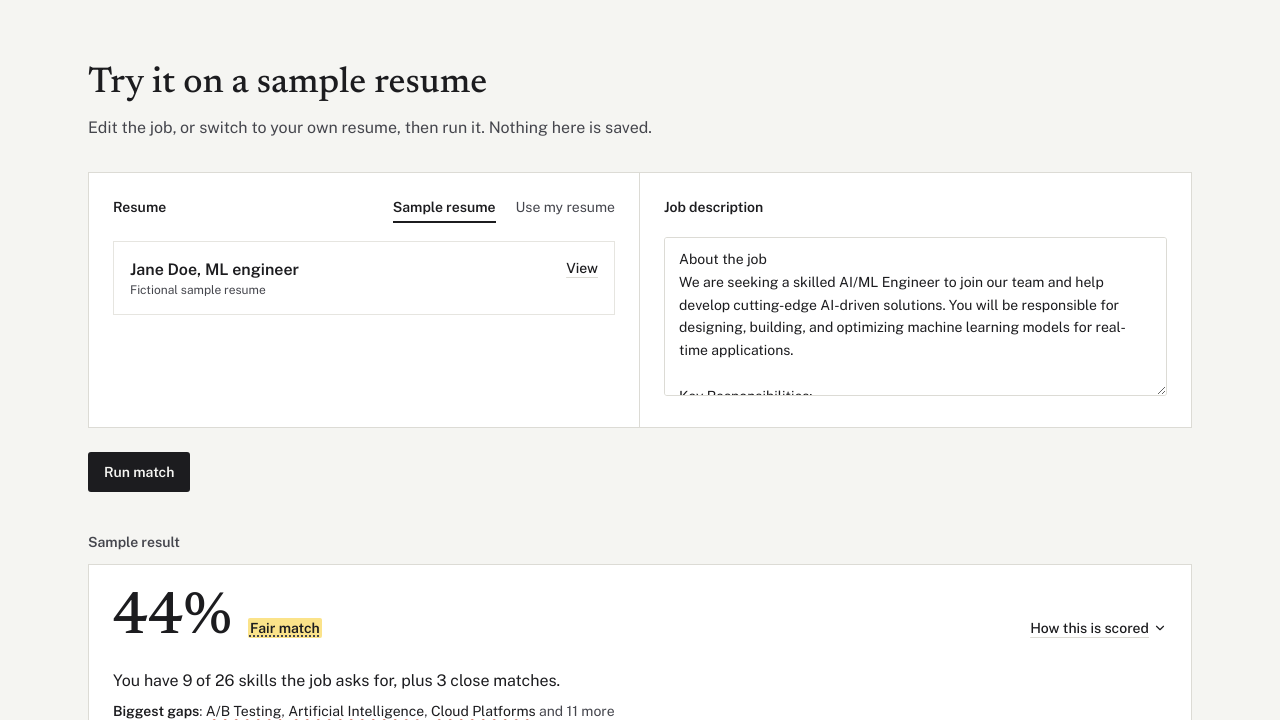
Test: editing the job description runs the match on your text
The width and height of the screenshot is (1280, 720).
Step 1. Replace the text in the text box with "Requirements: Python, SQL, Docker" → (916,316), box [664,237,1167,396]
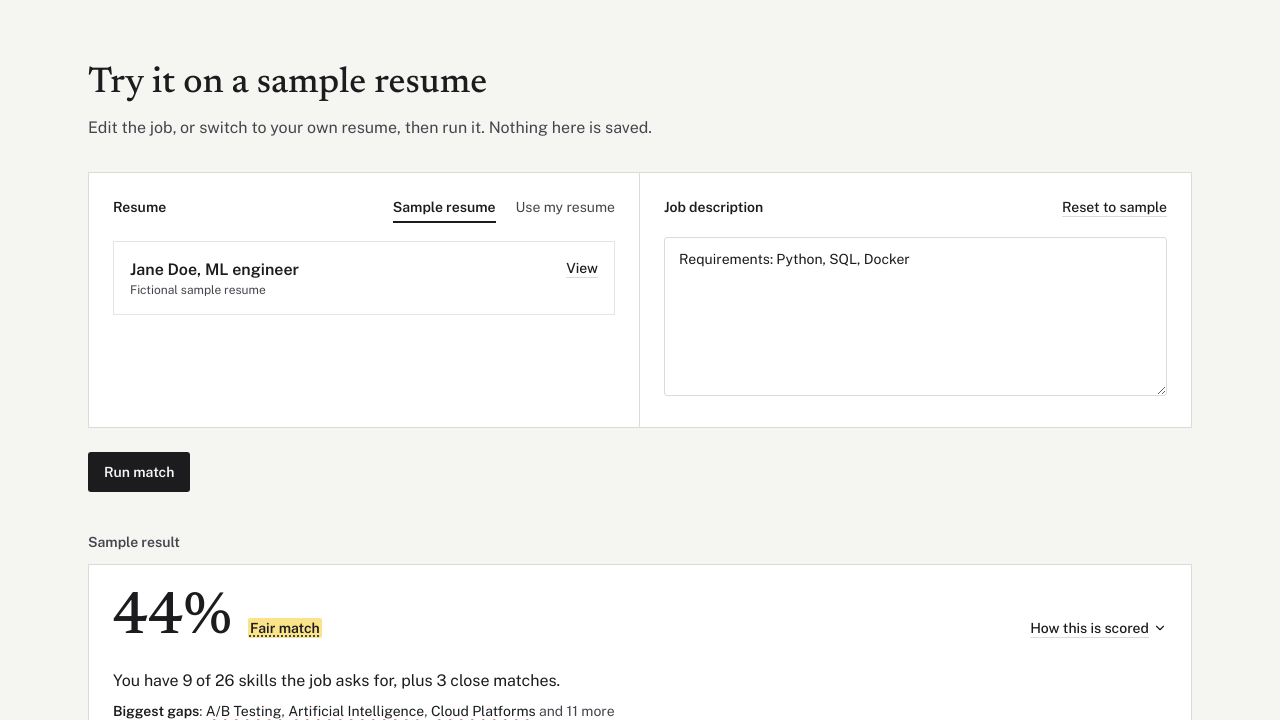
Step 2. Click the button "Run match" → (139,472), box [88,452,190,492]
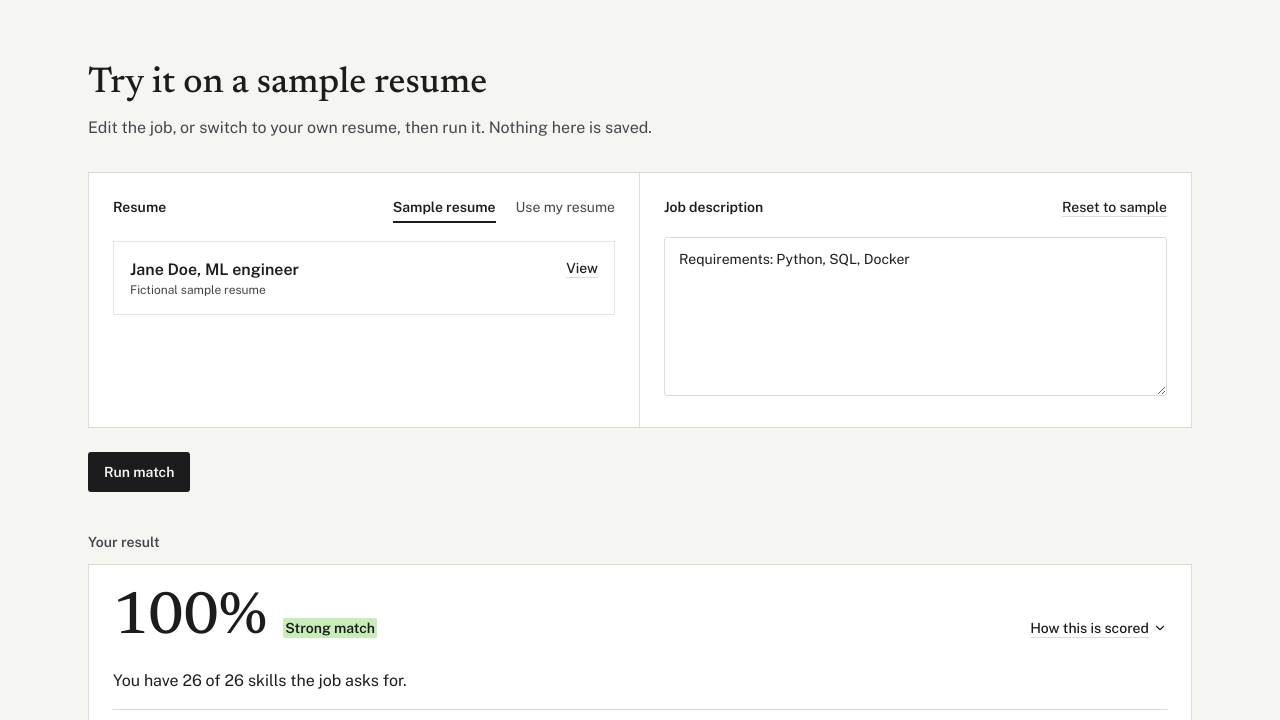
Now the text "Your result" is shown, box [88,534,160,550]
